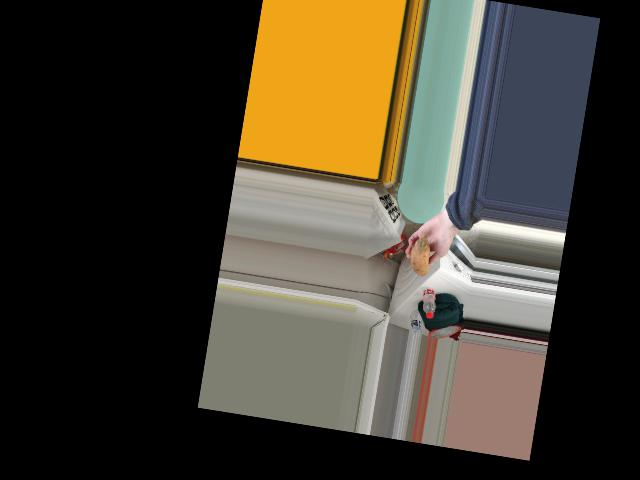sweet_potato: (409, 231, 436, 280)
